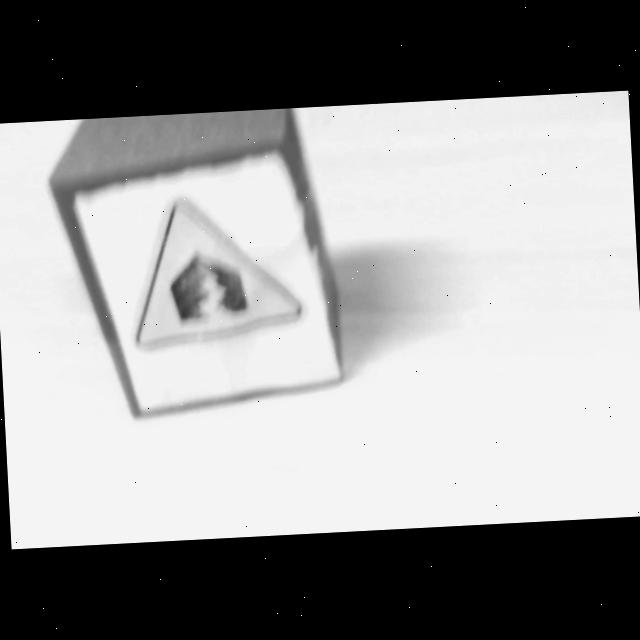Earthquake: (135, 197, 307, 351)
